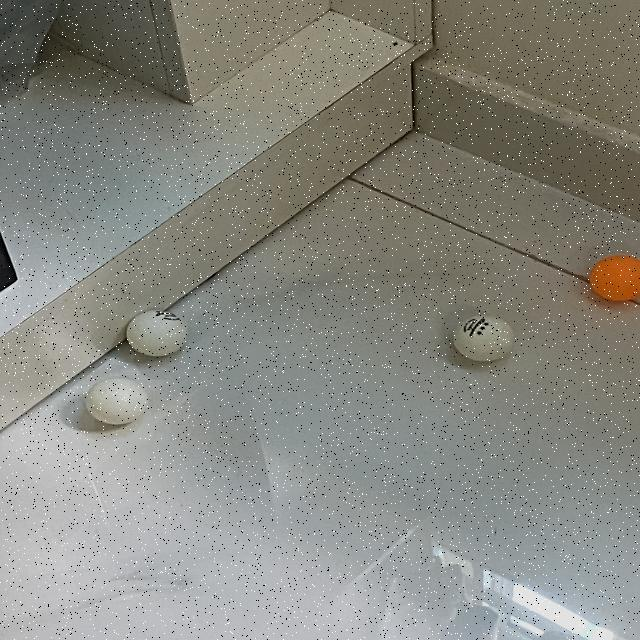ping-pong-ball: (454, 314, 514, 362), (88, 378, 150, 424), (128, 310, 188, 356), (589, 256, 640, 302)
